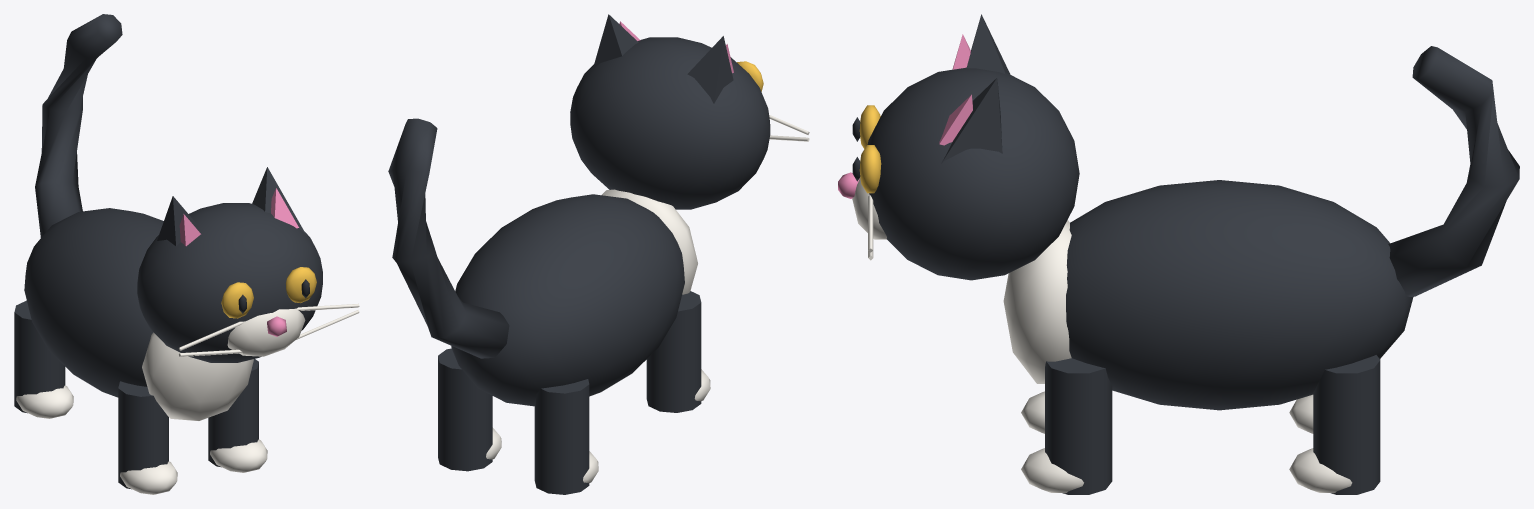
File: pet-gato.glb
3 views of the same model, side by side, from view 1: azimuth 30°, elevation 25°; view 2: azimuth 150°, elevation 25°; view 3: azimuth 270°, elevation 25° (orthographic). The views are drawn at different scales.
Parts seen in each view (by area): view 1: corpo, cabeca, rabo; view 2: corpo, cabeca, rabo; view 3: corpo, cabeca, rabo.
Boxes of the visible parts, bbox=[...] form: corpo: bbox=[14, 208, 267, 494]; cabeca: bbox=[137, 167, 359, 362]; rabo: bbox=[35, 14, 122, 237]; corpo: bbox=[438, 189, 710, 494]; cabeca: bbox=[570, 14, 809, 209]; rabo: bbox=[388, 118, 509, 358]; corpo: bbox=[1003, 180, 1413, 494]; cabeca: bbox=[838, 14, 1079, 280]; rabo: bbox=[1388, 46, 1519, 296].
Size of the model in its own units: 0.399 by 0.7361 by 1.02.
